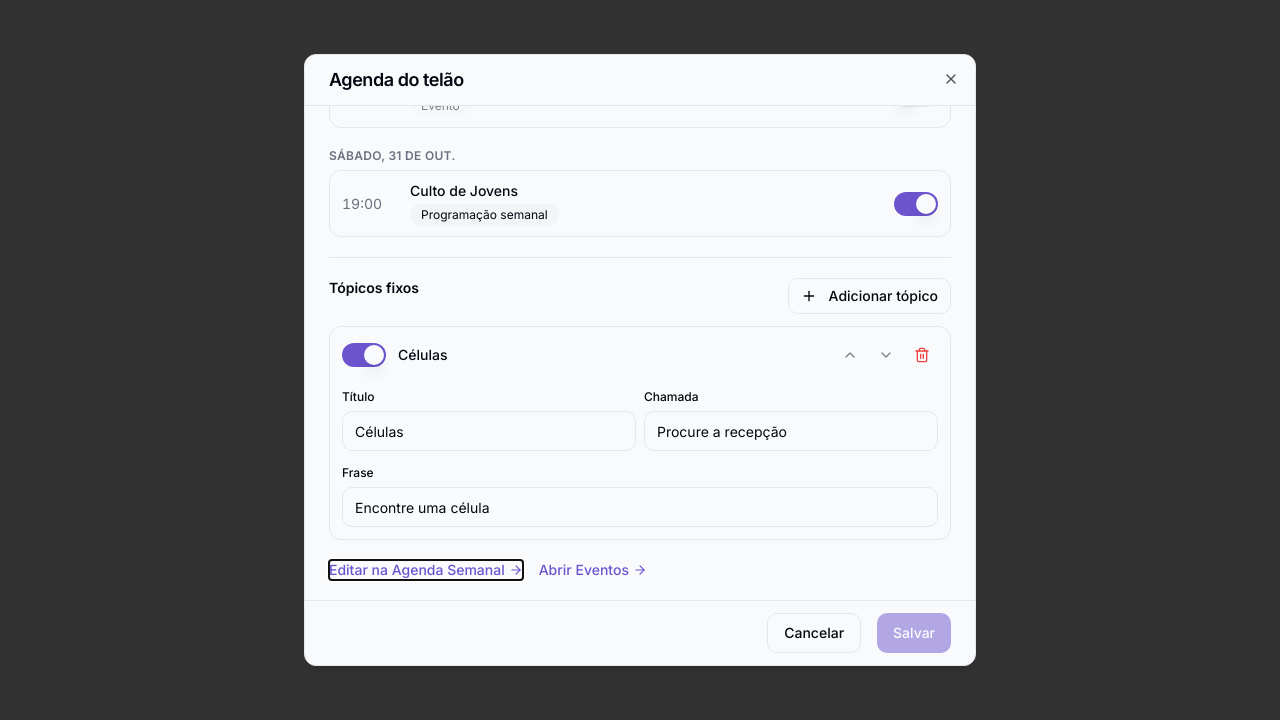
ProjectionAgendaSheet › desligar e remover tópico contam como alteração
Later steps or results of the test are not shown.
(page scrolled)
Click the switch named "Mostrar Células no telão" at {"x": 364, "y": 355}, box 342,343 -> 386,367
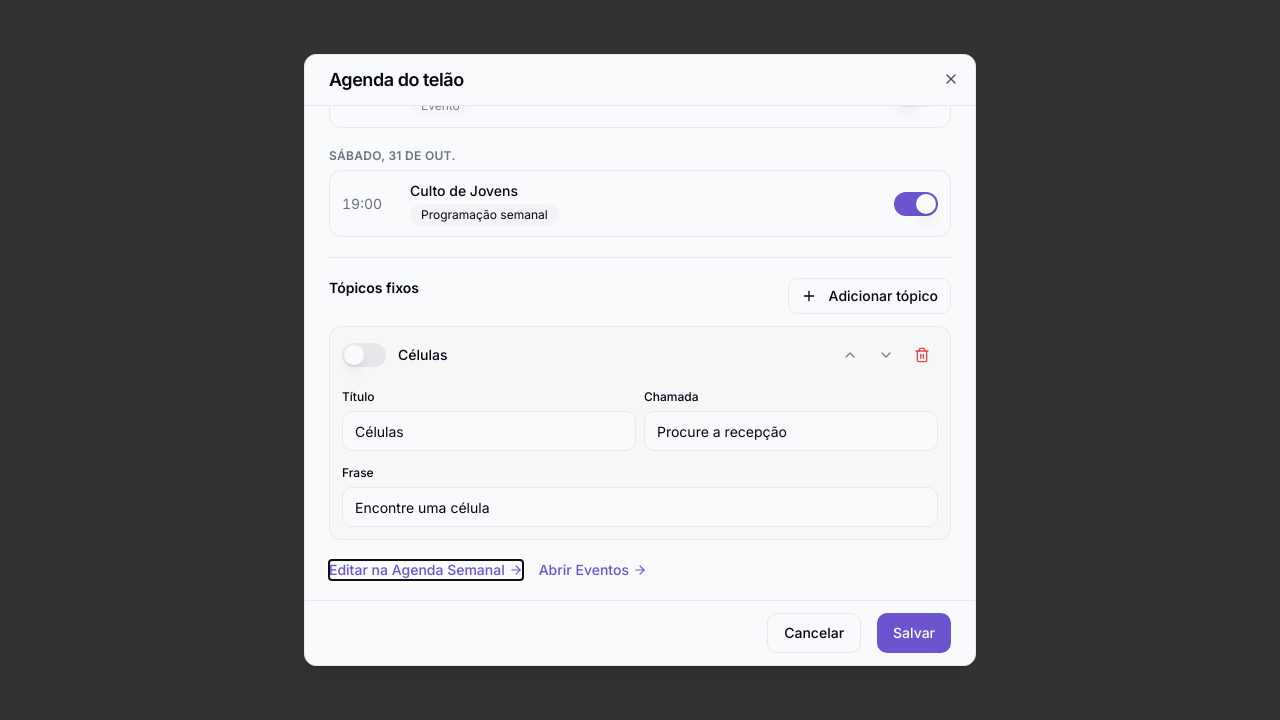
Click the button "Cancelar" at {"x": 814, "y": 633}, box 767,613 -> 861,653
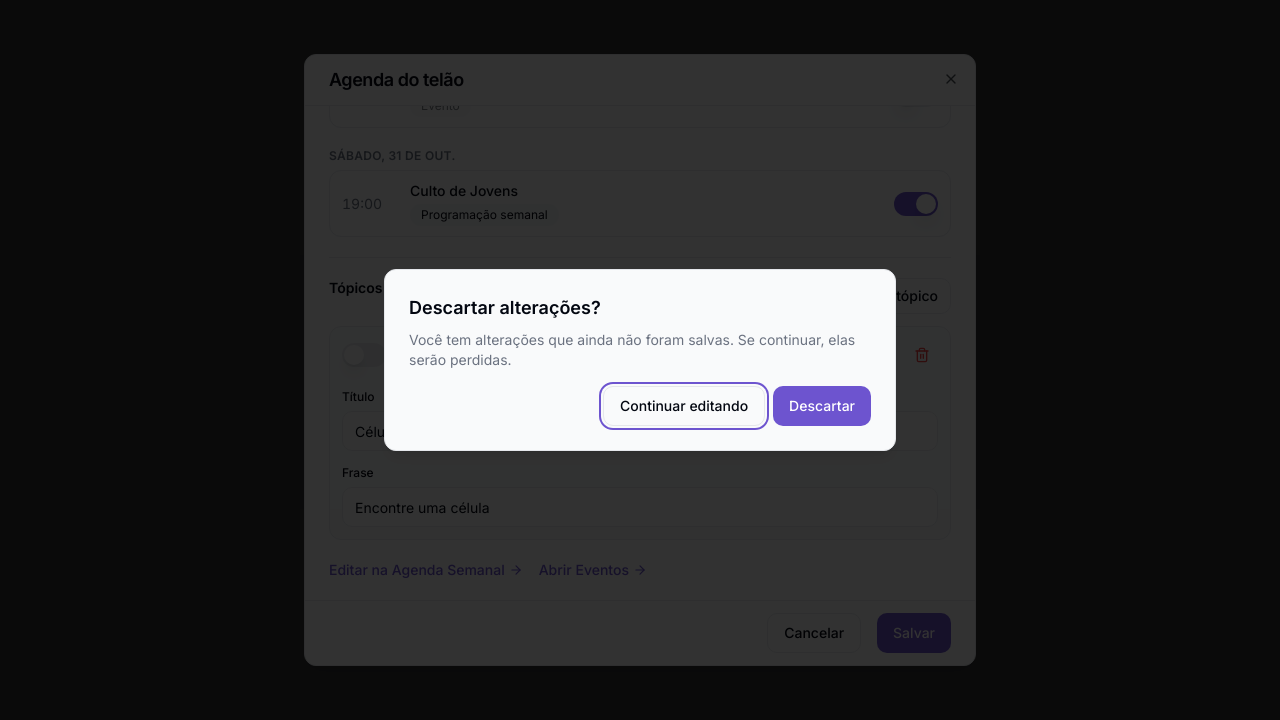
Check: the heading "Descartar alterações?" is shown, box 409,297 -> 601,318
